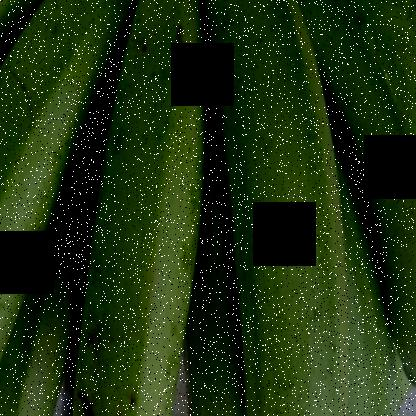unripe: (205, 1, 358, 415), (66, 17, 223, 415), (312, 1, 415, 388)
